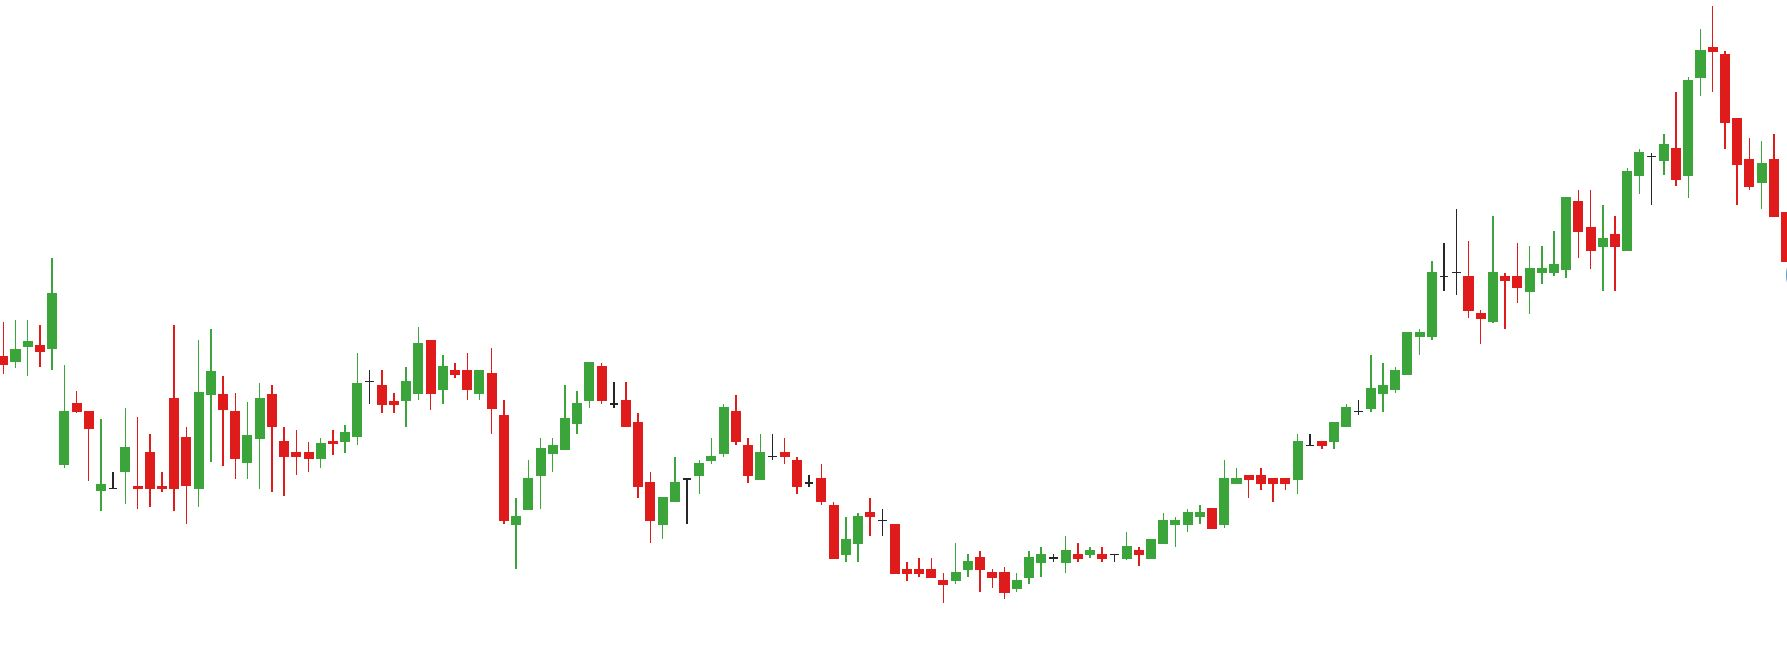buy: (277, 409, 536, 573)
